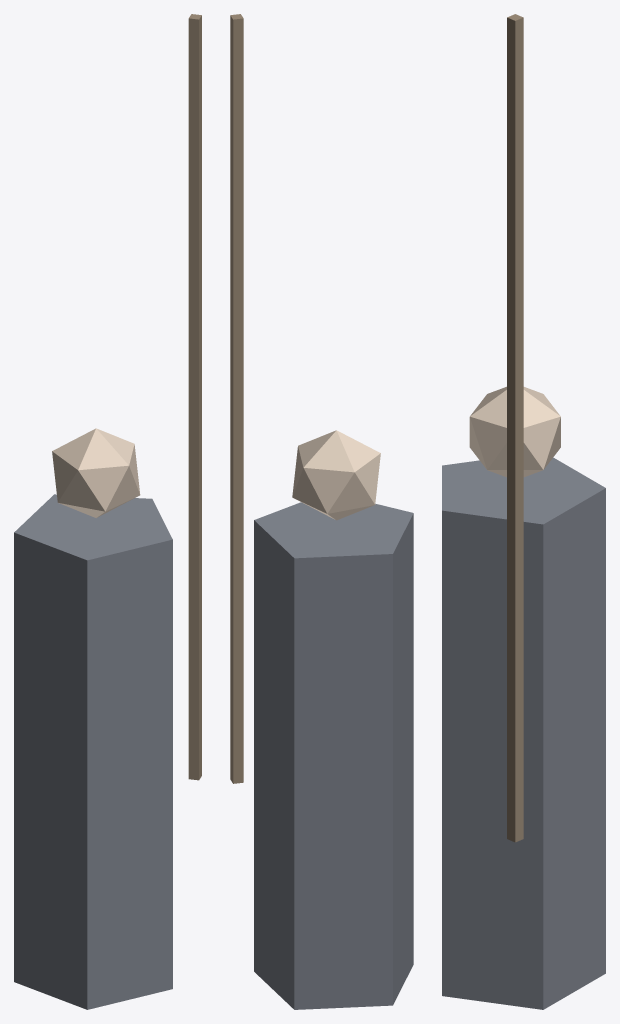
File: soldier_black.glb
3 views of the same model, side by side, from view 1: azimuth 30°, elevation 25°; view 2: azimuth 150°, elevation 25°; view 3: azimuth 270°, elevation 25° (orthographic). The views are drawn at different scales.
Visible parts, largest first — view 1: Soldier_Black; view 2: Soldier_Black; view 3: Soldier_Black.
Part boxes in pixels (x1,y1,x2,y2): Soldier_Black: (14,14,201,1009); Soldier_Black: (230,14,413,1009); Soldier_Black: (442,14,605,1009).
Size of the model in its own units: 0.5292 by 2.7 by 0.398.
